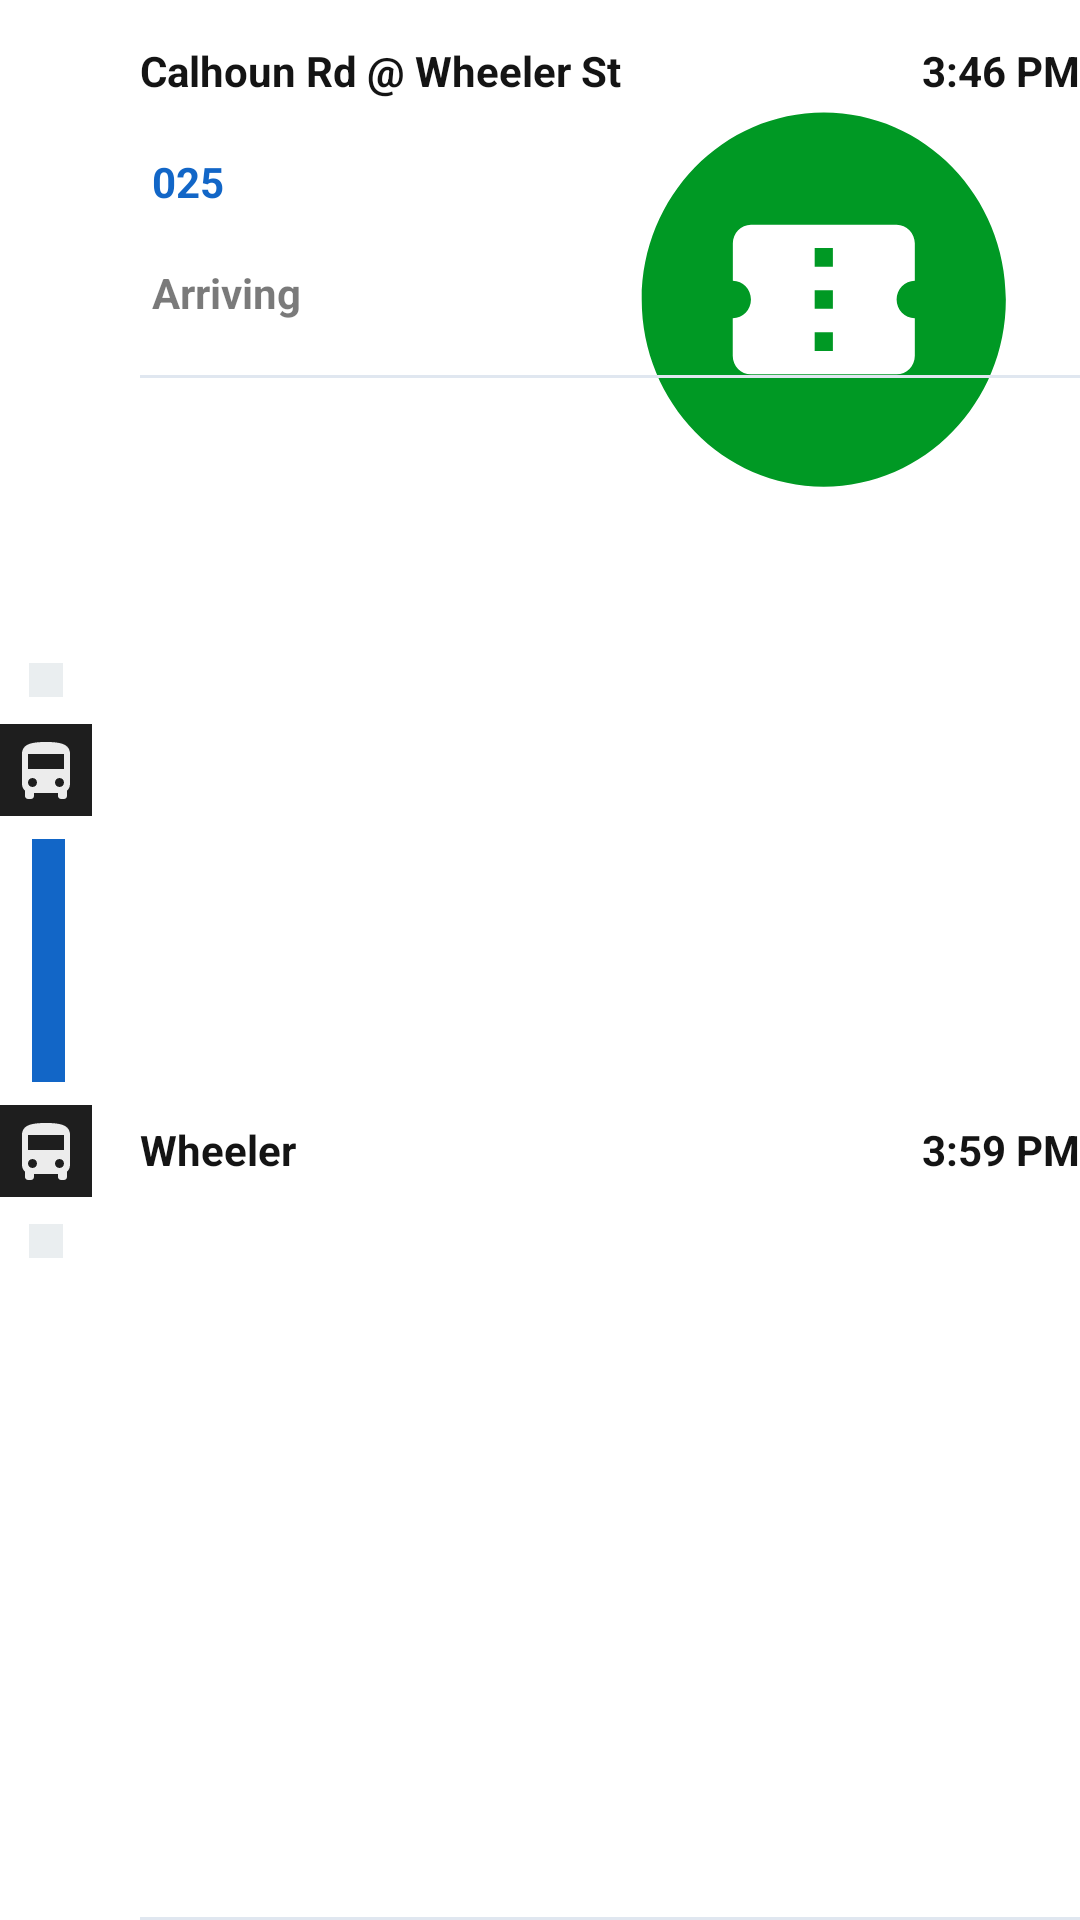

Screen size 1080px×1920px. Icon name, then its box in pixels as region(x1, y1, x2, y2):
mode bus: region(0, 724, 92, 816), region(0, 1105, 92, 1197)
